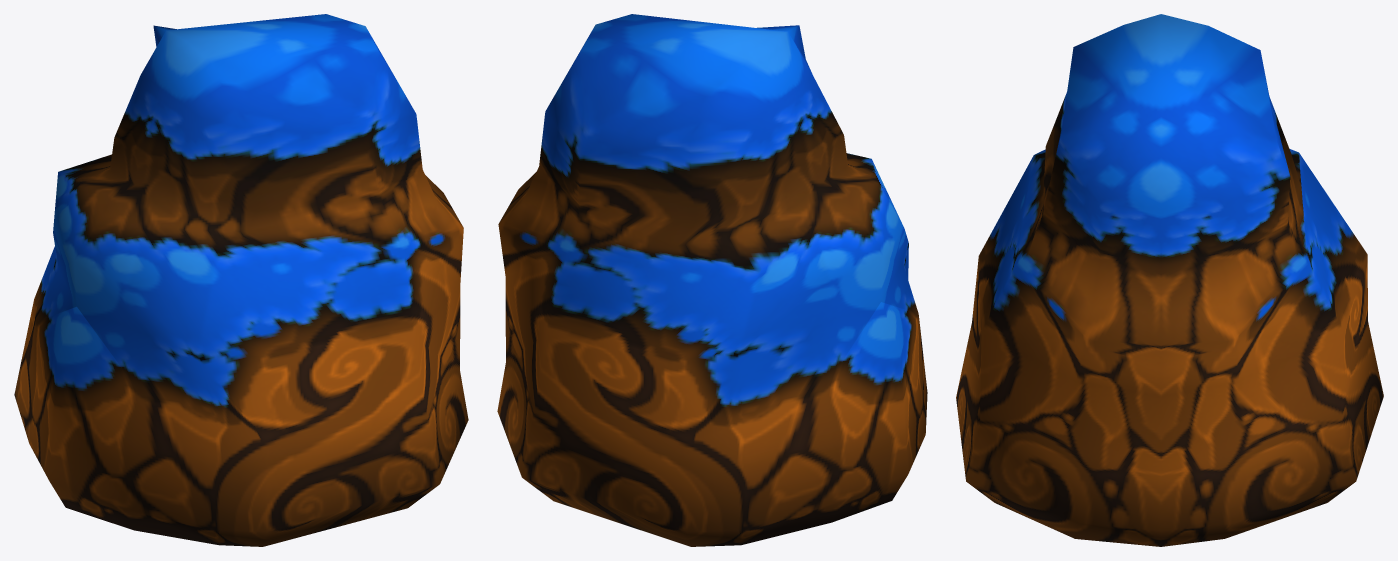
The model's file is Blue_Rock_01.FBX.
The picture shows the model from 3 angles, left to right: view 1: azimuth 30°, elevation 25°; view 2: azimuth 150°, elevation 25°; view 3: azimuth 270°, elevation 25°; orthographic projection. The views are drawn at different scales.
Parts seen in each view (by area): view 1: Blue_Rock_01; view 2: Blue_Rock_01; view 3: Blue_Rock_01.
Part boxes in pixels (bbox=[...]): Blue_Rock_01: bbox=[14, 14, 468, 546]; Blue_Rock_01: bbox=[497, 14, 927, 546]; Blue_Rock_01: bbox=[956, 14, 1383, 546].
Bounding box in the file's own units: 280 × 297 × 272.
